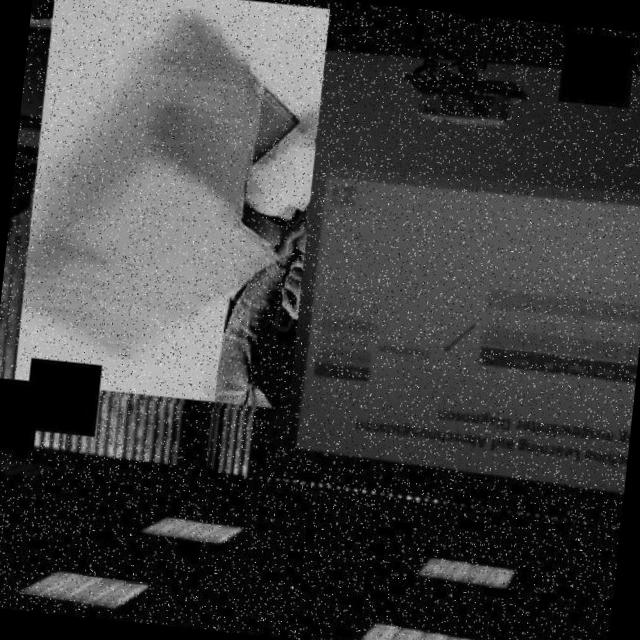box: (6, 0, 333, 415)
